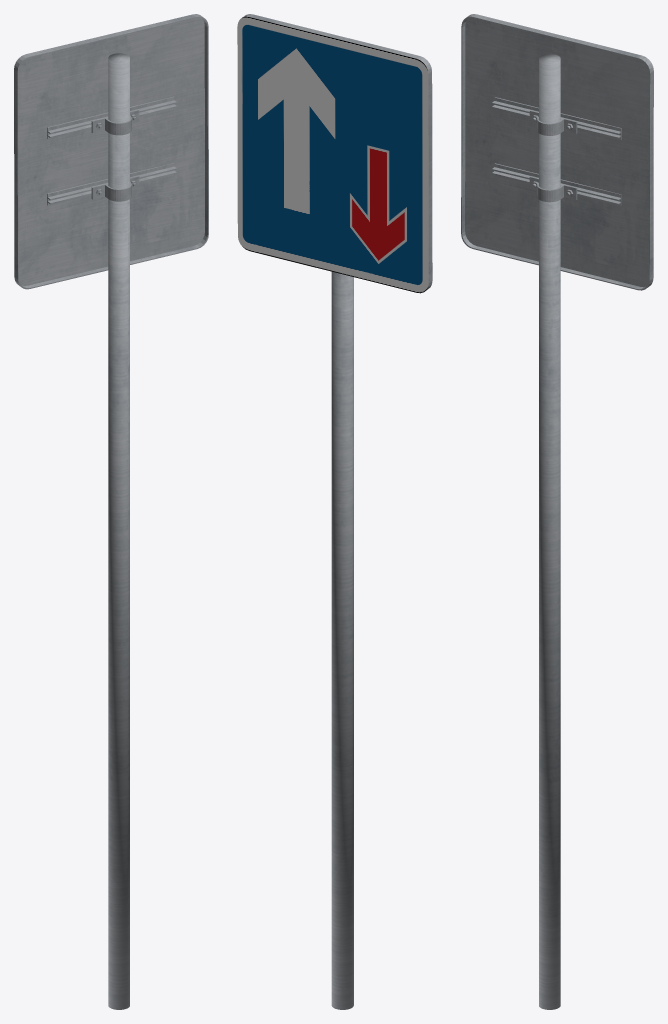
File: Priority_opposite_direction.fbx
The picture shows the model from 3 angles, left to right: view 1: azimuth 30°, elevation 25°; view 2: azimuth 150°, elevation 25°; view 3: azimuth 330°, elevation 25°; orthographic projection.
Parts seen in each view (by area): view 1: Priority opposite direction; view 2: Priority opposite direction; view 3: Priority opposite direction.
Boxes of the visible parts, x1,y1,x2,y2 form: Priority opposite direction: (14, 14, 208, 1009); Priority opposite direction: (237, 14, 432, 1009); Priority opposite direction: (461, 14, 653, 1009).
Size of the model in its own units: 0.091 by 0.6002 by 2.91.
